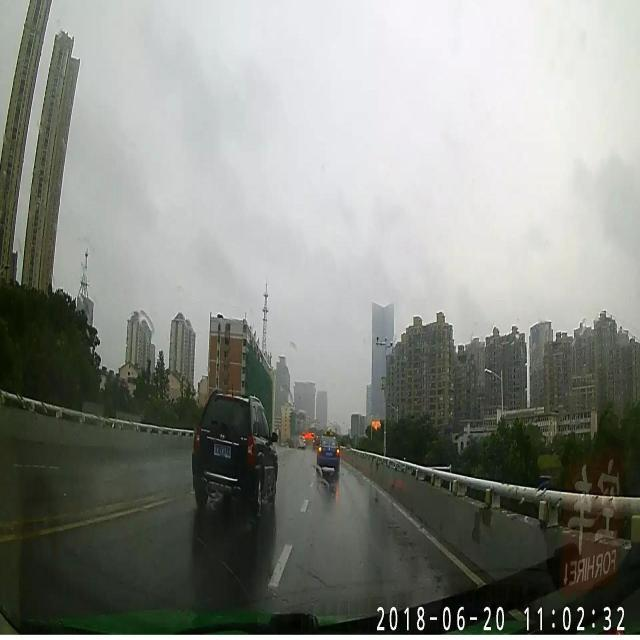car: (192, 388, 278, 513), (316, 432, 339, 472)
